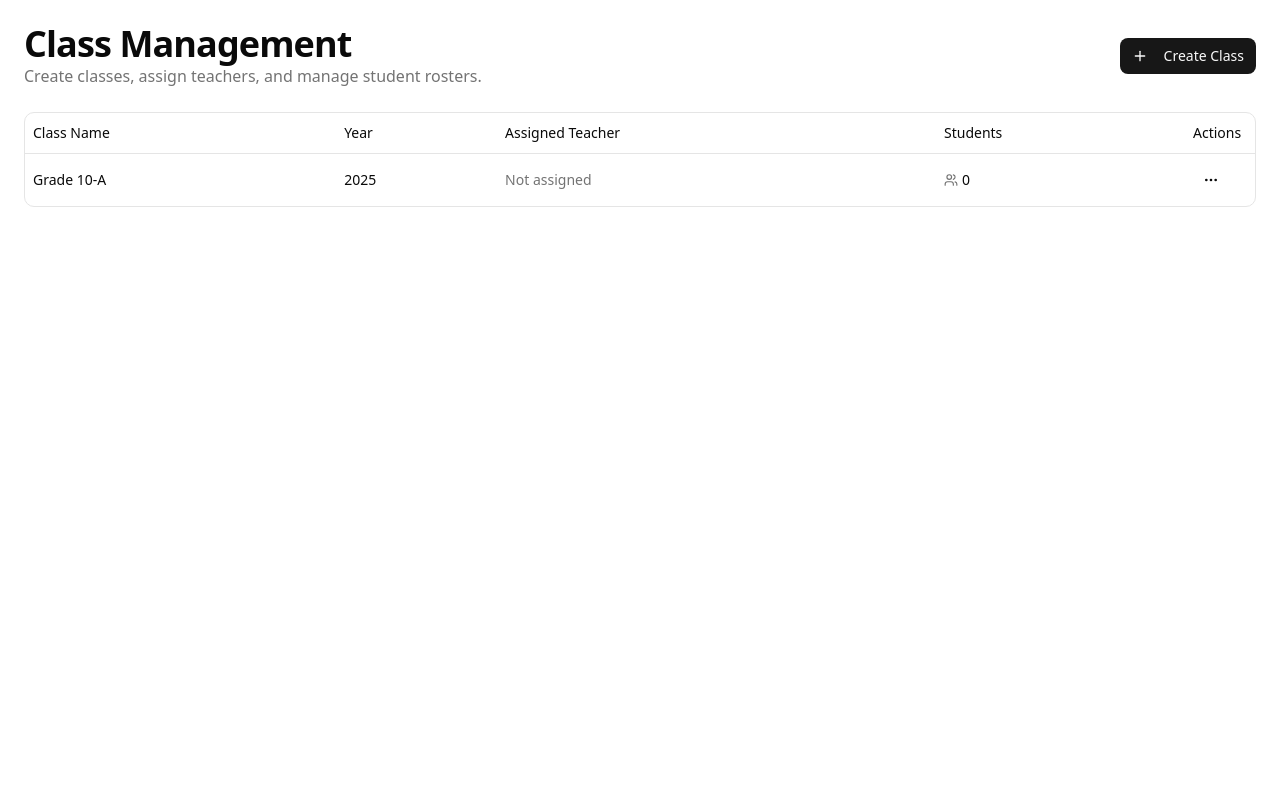
Subject Teachers modal — existing assignments › lists teacher email + subject name per row, each with a Remove button
expect the text "Grade 10-A" is shown: met, box left=25, top=153, right=336, bottom=206
Click the button named "open menu".
click(1211, 180)  # box left=1193, top=162, right=1229, bottom=198
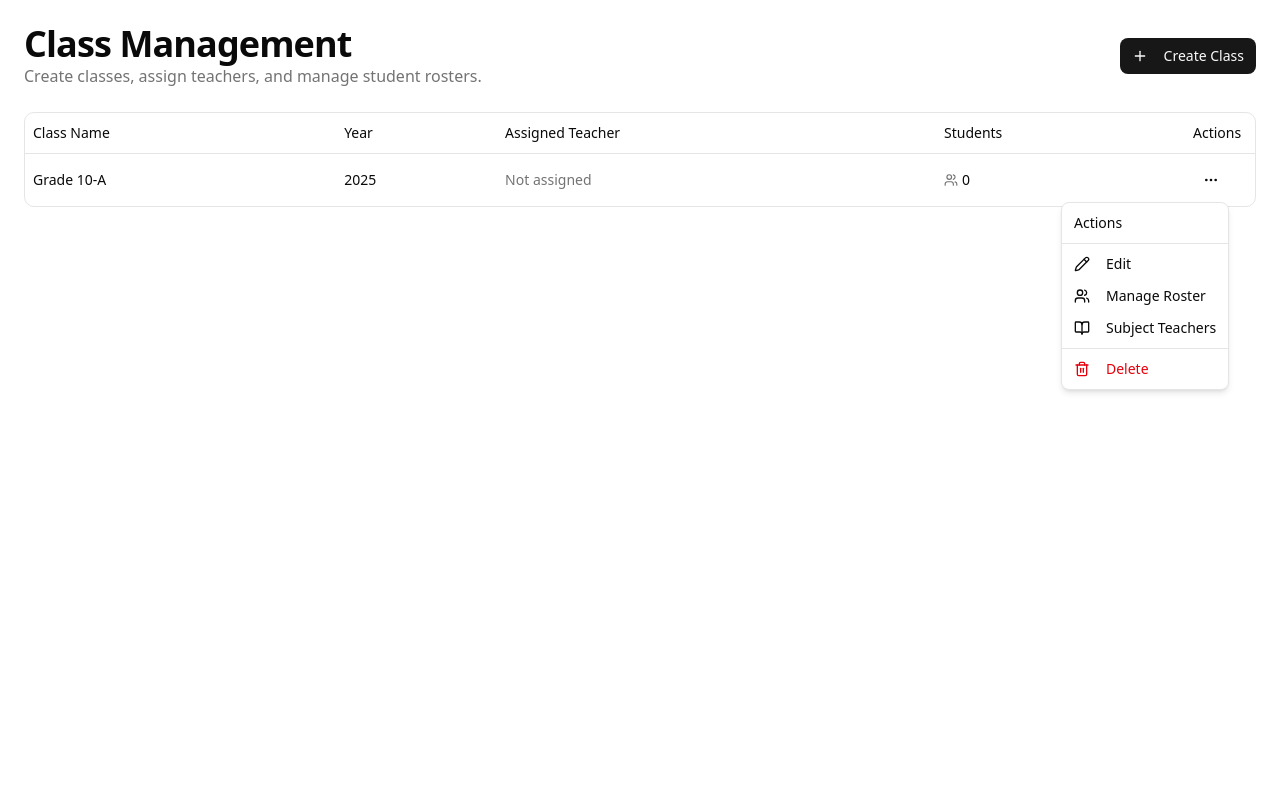
Click the menu item "Subject Teachers".
click(1145, 328)  # box left=1074, top=318, right=1216, bottom=337
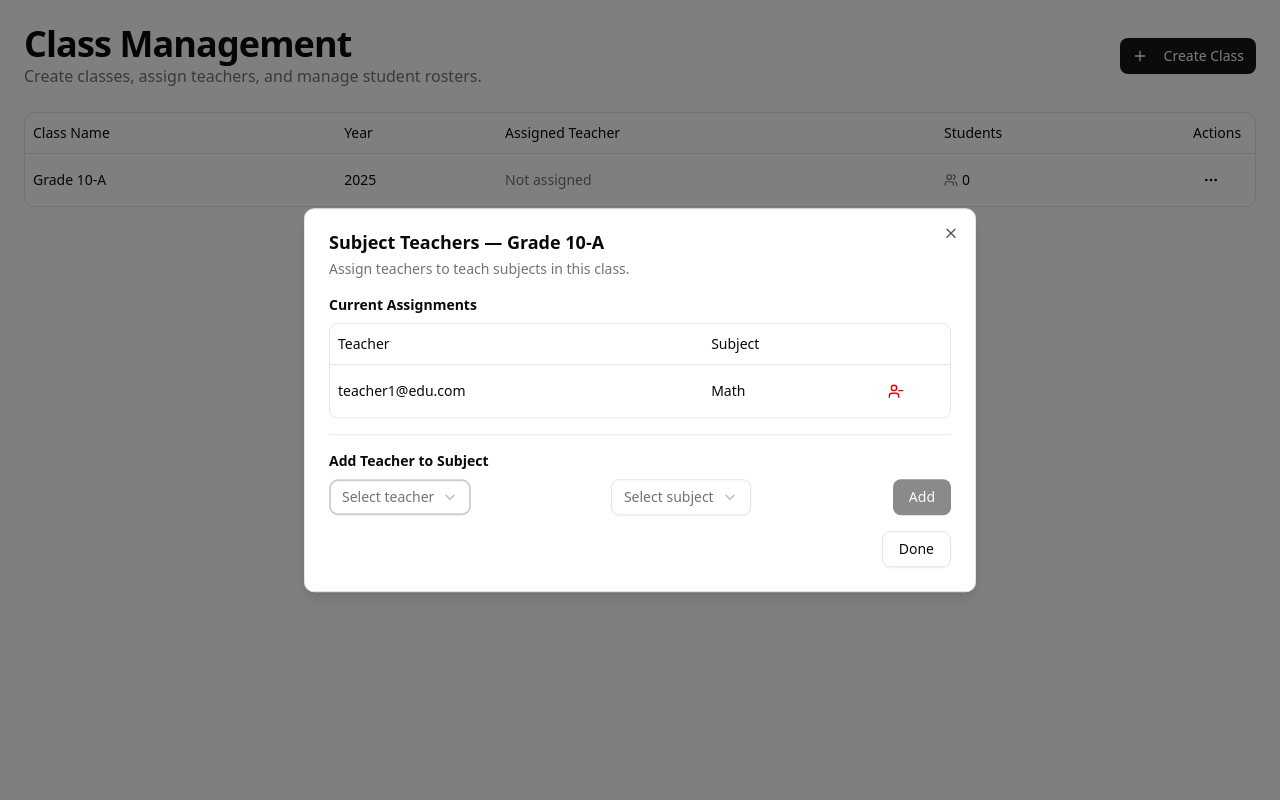
expect the heading "Subject Teachers — Grade 10-A" is shown: met, box left=329, top=230, right=604, bottom=254
expect the text "Math" is shown: met, box left=703, top=364, right=870, bottom=417
expect the button without text in the row of "teacher1@edu.com" is shown: met, box left=878, top=373, right=914, bottom=409
